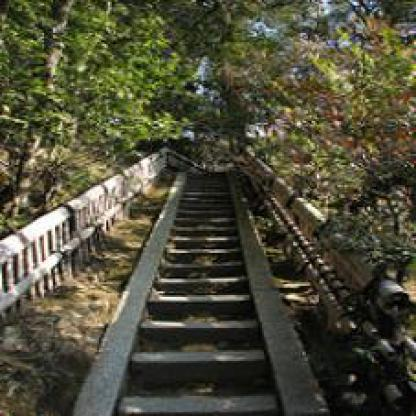stair_up: (125, 258, 310, 410)
